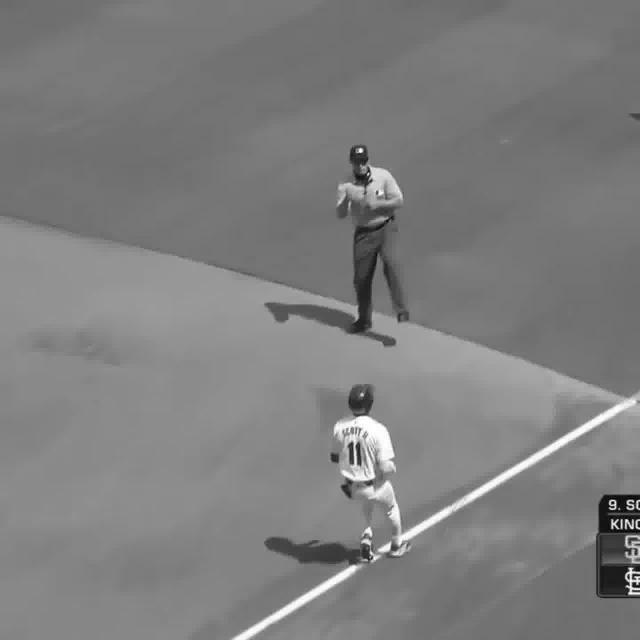shoe: (382, 538, 414, 560), (357, 535, 374, 568)
